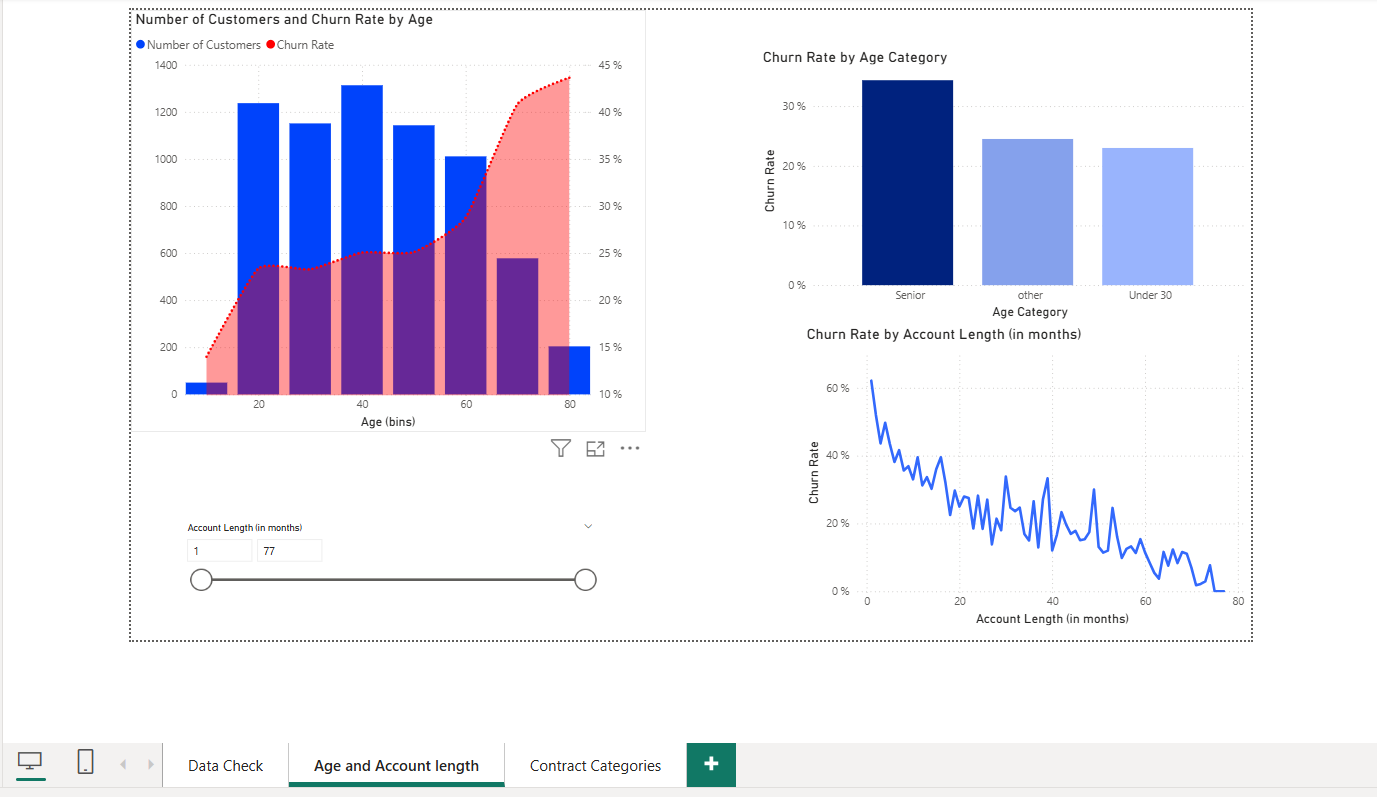

This screenshot's page, from the dashboard's own definition file:
{"tool":"powerbi","page":{"name":"Age and Account length","canvas":[1280,720],"ordinal":1},"visuals":[{"type":"lineStackedColumnComboChart","title":"Number of Customers and Churn Rate by Age","fields":{"Category":["Databel - Data.Age (bins)"],"Y2":["Databel - Data.Churn Rate"],"Y":["Databel - Data.Number of Customers"]},"box":[0,0,588.7,483],"z":0},{"type":"lineChart","fields":{"Category":["Databel - Data.Account Length (in months)"],"Y":["Databel - Data.Churn Rate"]},"box":[767.1,359.5,513.2,348.5],"z":1000},{"type":"slicer","fields":{"Values":["Databel - Data.Account Length (in months)"]},"box":[50.8,580.4,488.5,101.5],"z":2000},{"type":"clusteredColumnChart","fields":{"Y":["Databel - Data.Churn Rate"],"Category":["Databel - Data.Age Category"]},"box":[717.4,42.5,562.6,315.6],"z":3000}]}

Visuals, with their boxes on the page's 1280x720 design canvas (x1, y1, x2, y2). These are canvas units, not pixel positions in the 1377x797 screenshot, which may show the page scaled, cropped or inside an application window:
"Number of Customers and Churn Rate by Age" lineStackedColumnComboChart: l=0, t=0, r=589, b=483
lineChart - Databel - Data.Account Length (in months) x Databel - Data.Churn Rate: l=767, t=360, r=1280, b=708
slicer - Databel - Data.Account Length (in months): l=51, t=580, r=539, b=682
clusteredColumnChart - Databel - Data.Churn Rate x Databel - Data.Age Category: l=717, t=42, r=1280, b=358
